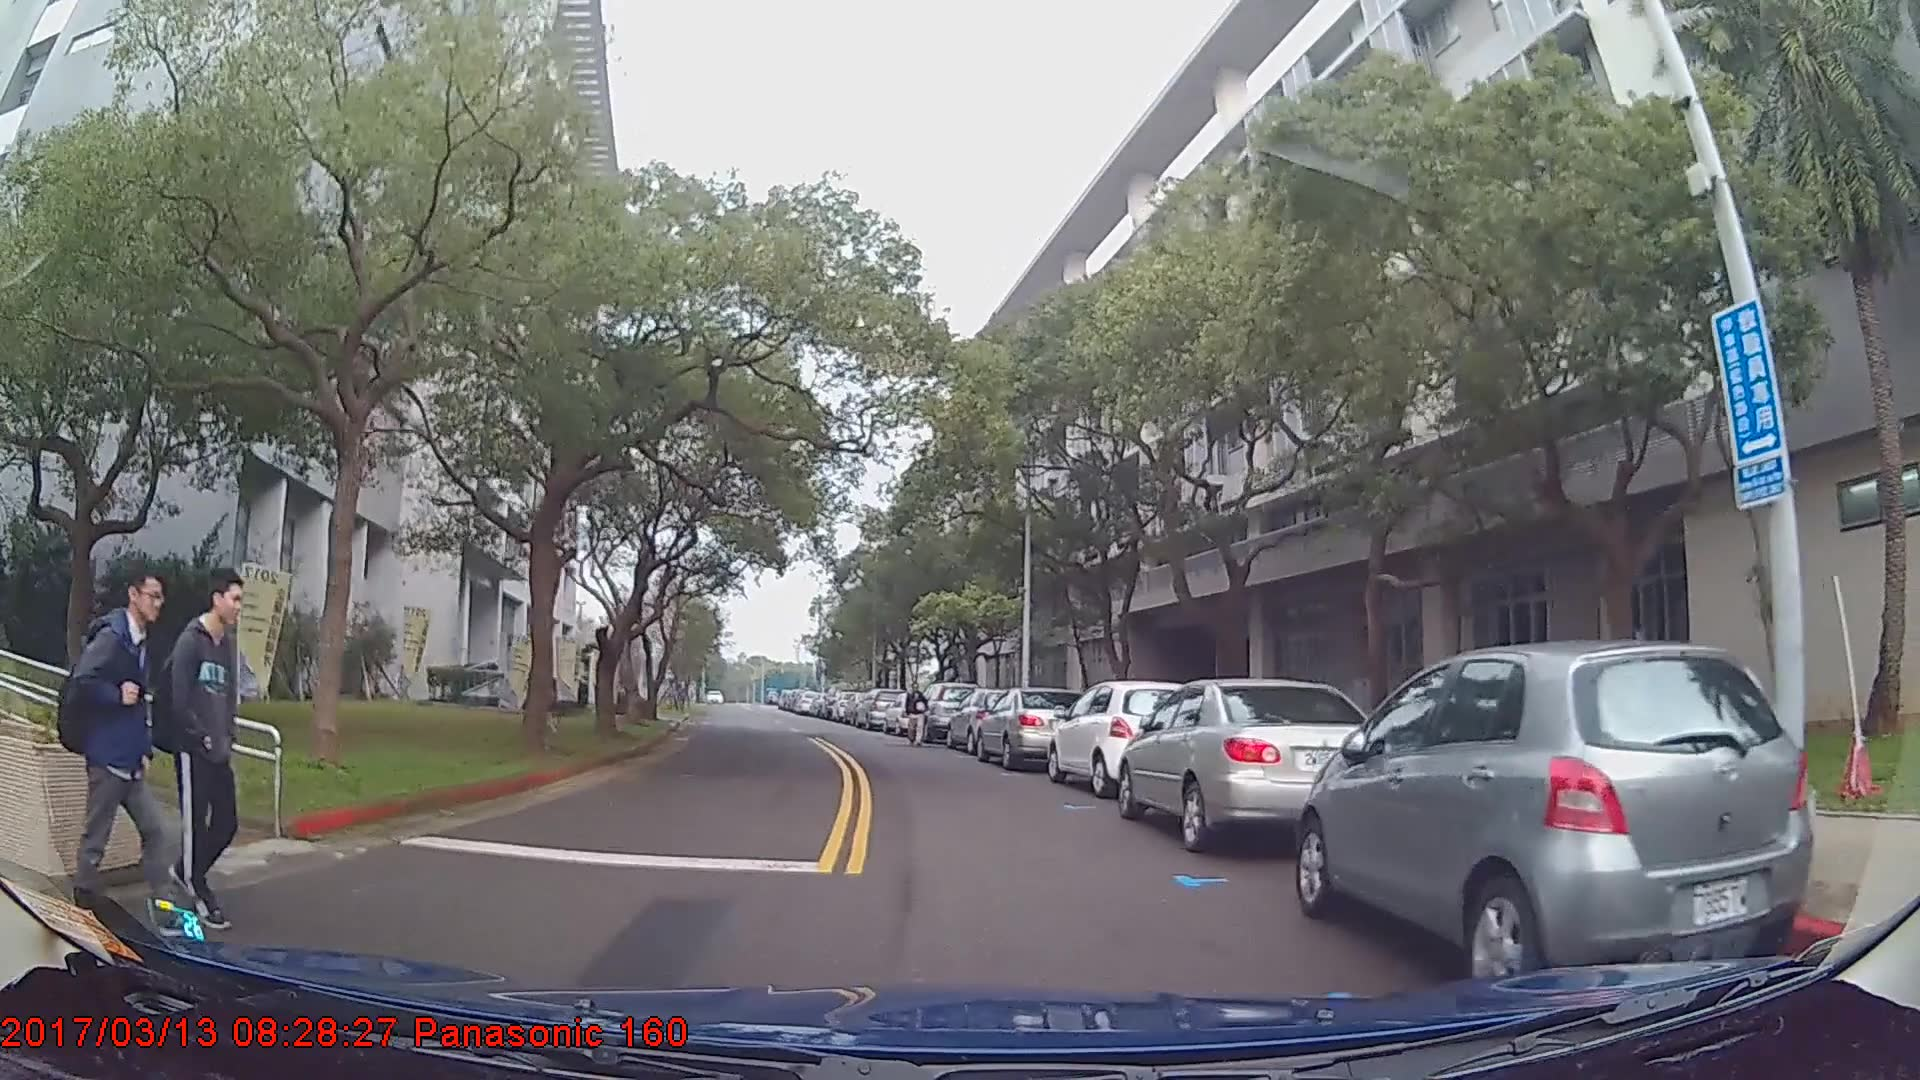pedestrian: (60, 560, 211, 948), (152, 561, 249, 933), (903, 675, 930, 745)
vehicle: (1297, 635, 1813, 999), (1117, 675, 1394, 850), (1049, 677, 1200, 799), (976, 683, 1083, 767), (942, 686, 1038, 755), (916, 680, 973, 742), (855, 686, 904, 730)
